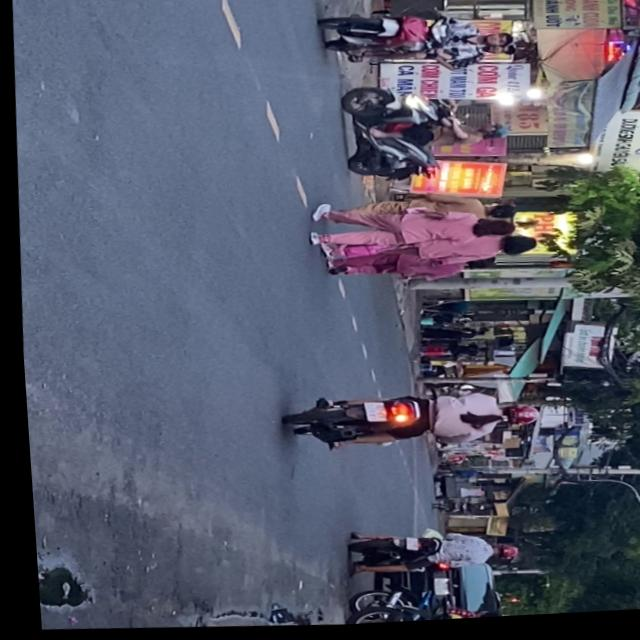helmet: (492, 406, 535, 431), (479, 35, 517, 53), (477, 127, 508, 143), (483, 547, 510, 564)
licenseplate: (275, 384, 537, 463), (329, 82, 512, 191), (313, 6, 520, 76), (337, 527, 513, 585)
nohelmet: (356, 404, 381, 426), (397, 540, 410, 554)
